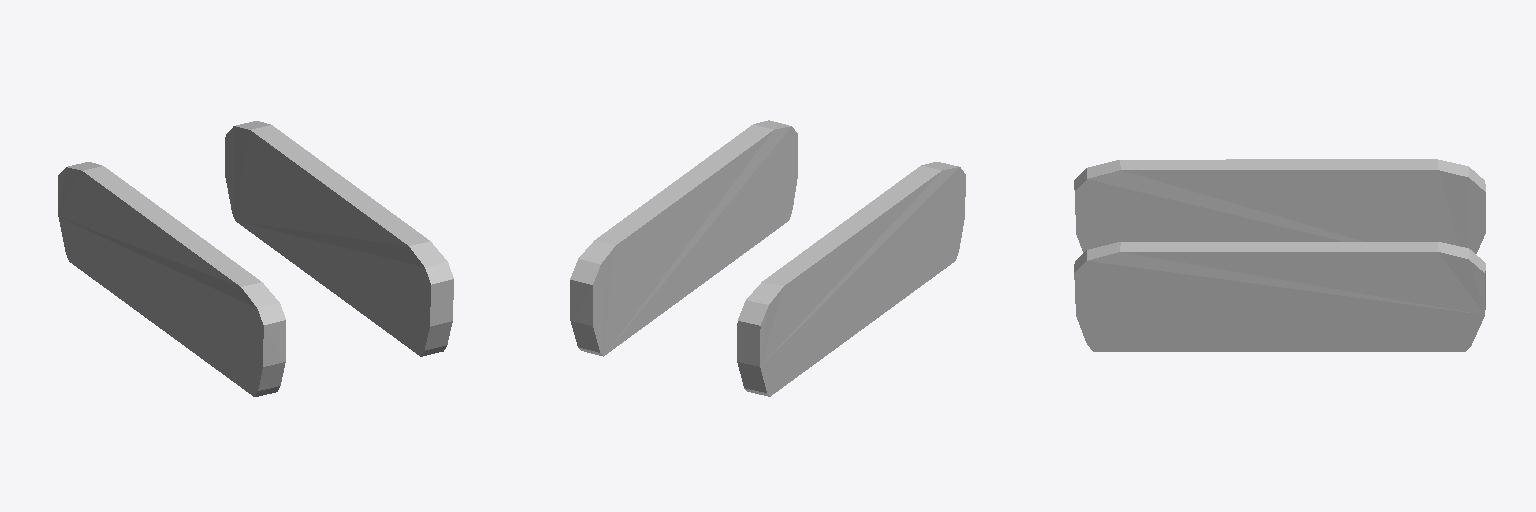
File: sine.obj
The picture shows the model from 3 angles: view 1: azimuth 30°, elevation 25°; view 2: azimuth 150°, elevation 25°; view 3: azimuth 270°, elevation 25°; orthographic projection.
Visible parts, largest first — view 1: sine_Scifi_Panels_02; view 2: sine_Scifi_Panels_02; view 3: sine_Scifi_Panels_02.
Part boxes in pixels (x1,y1,x2,y2): sine_Scifi_Panels_02: (58, 121, 453, 396); sine_Scifi_Panels_02: (570, 120, 965, 396); sine_Scifi_Panels_02: (1074, 159, 1485, 351).
Size of the model in its own units: 1.36 by 0.6889 by 2.55.